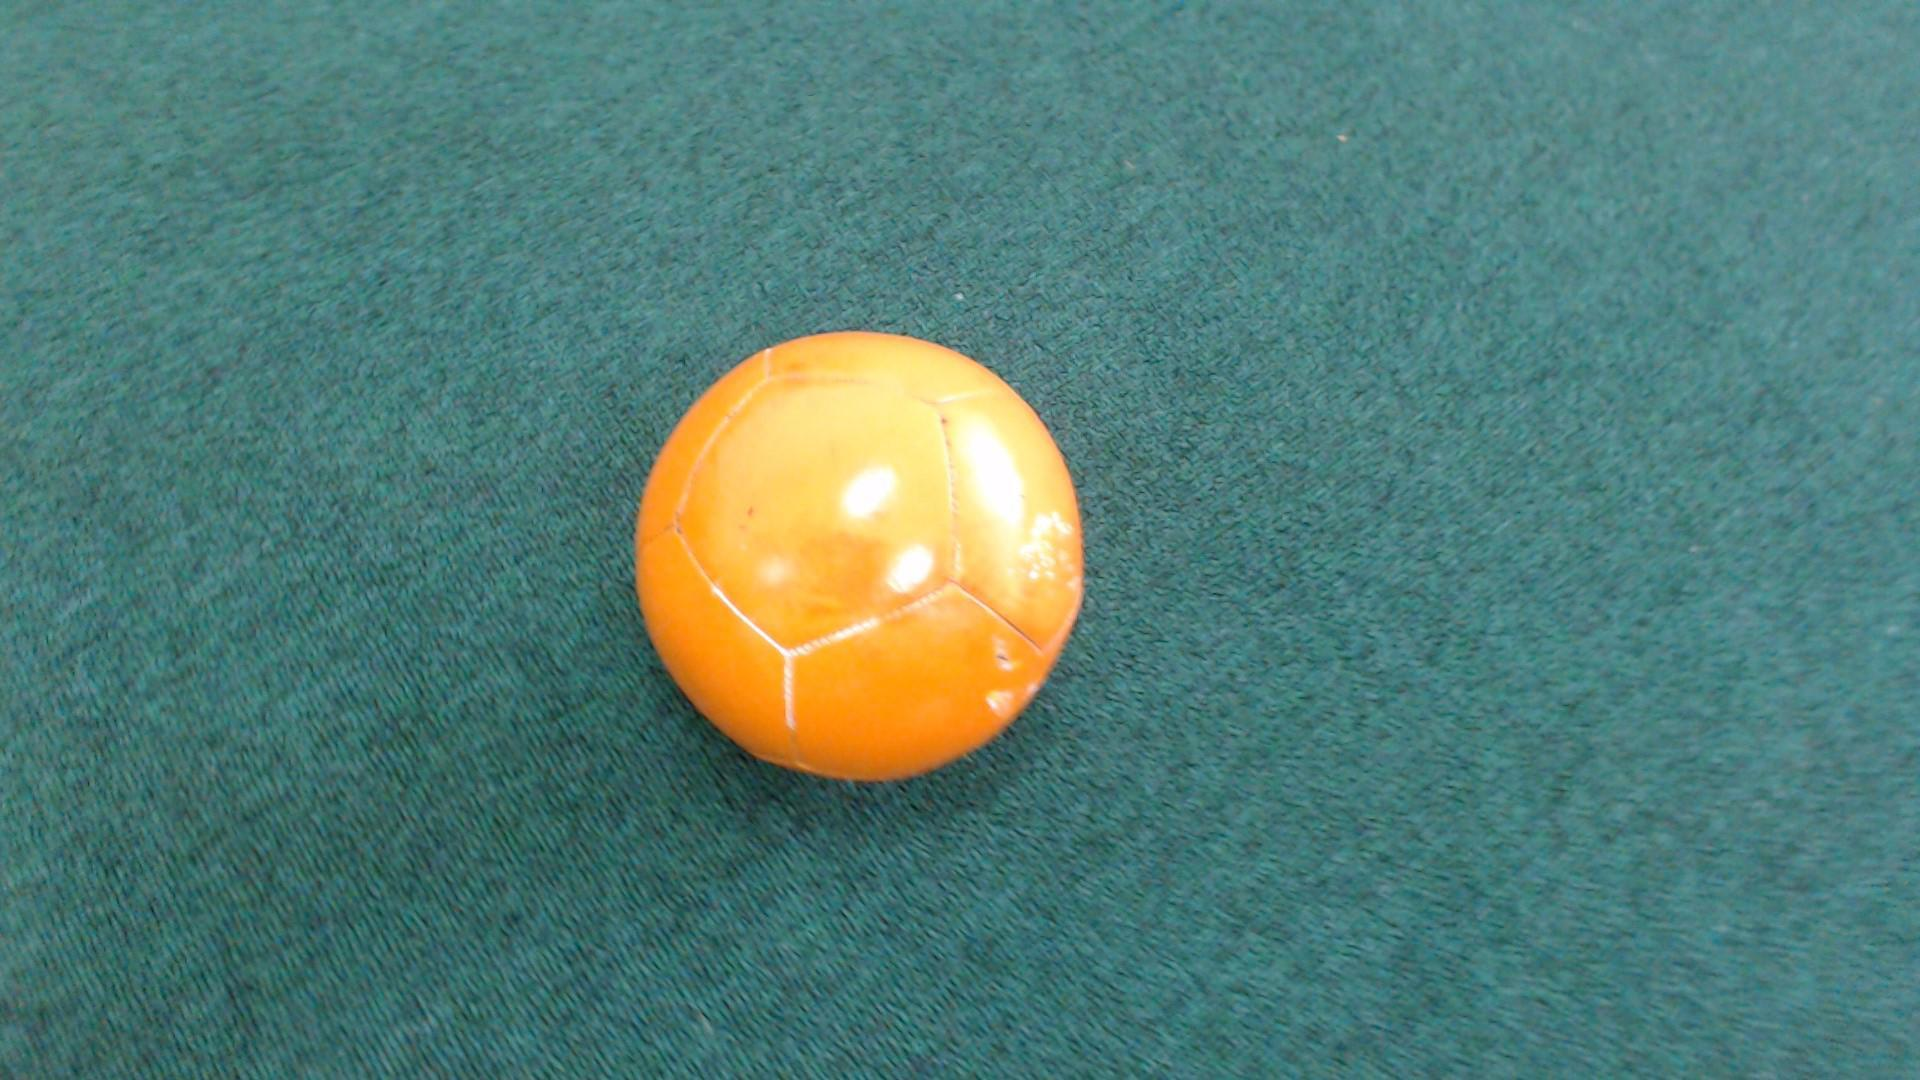bola: (604, 306, 1098, 811)
